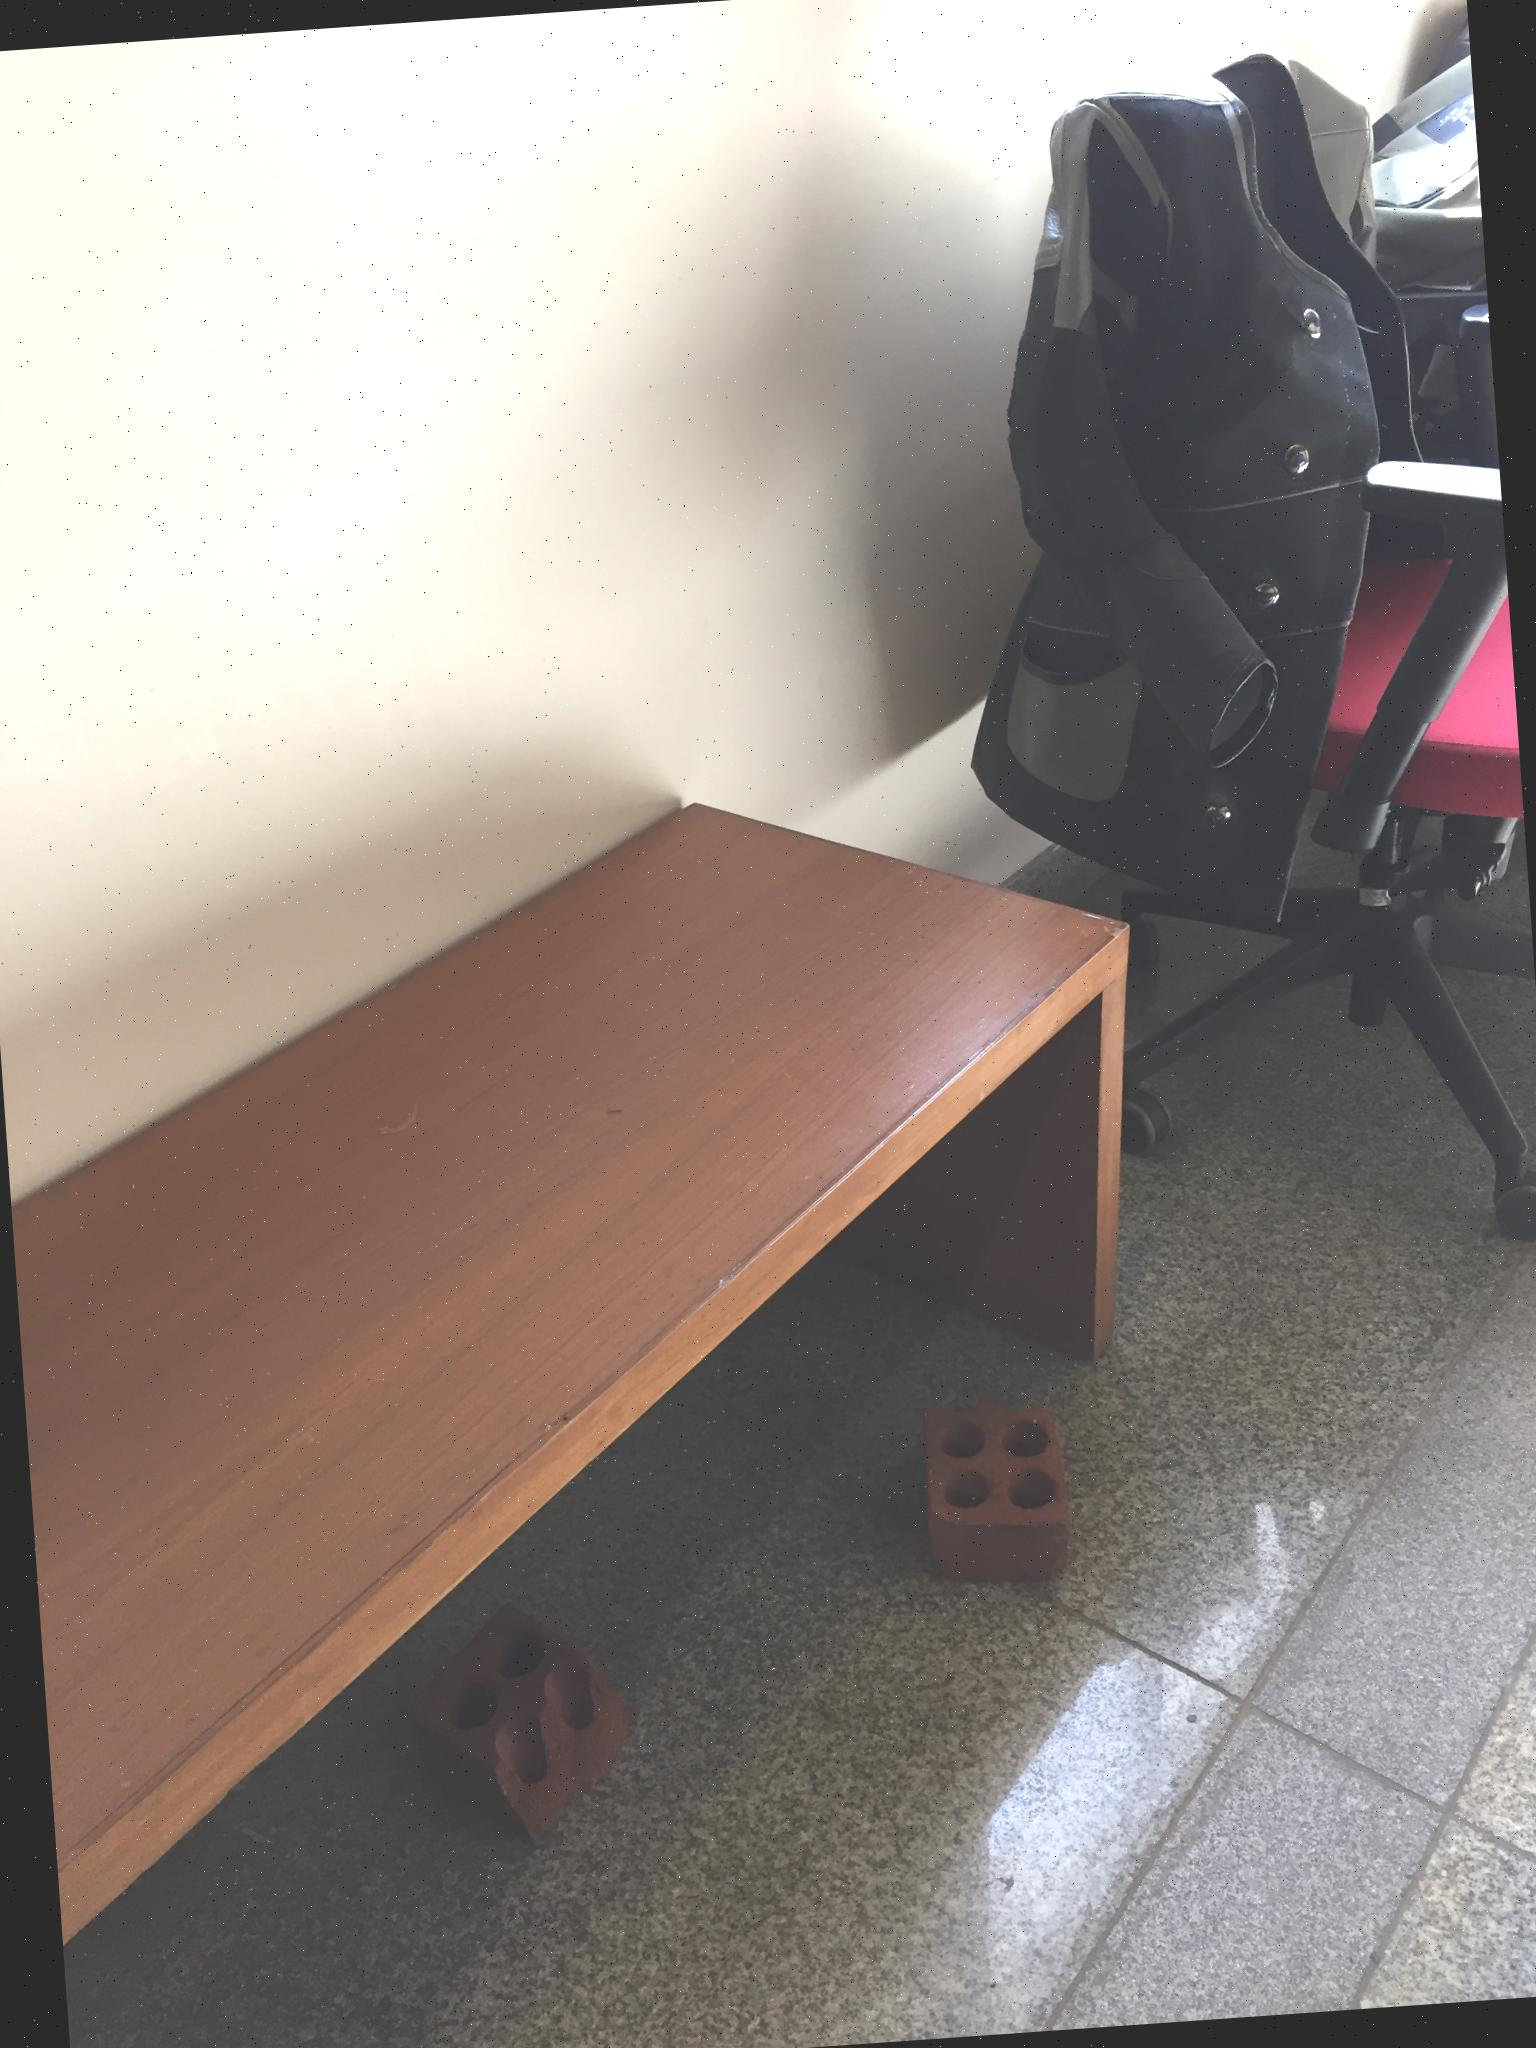chair: (920, 37, 1536, 1279)
